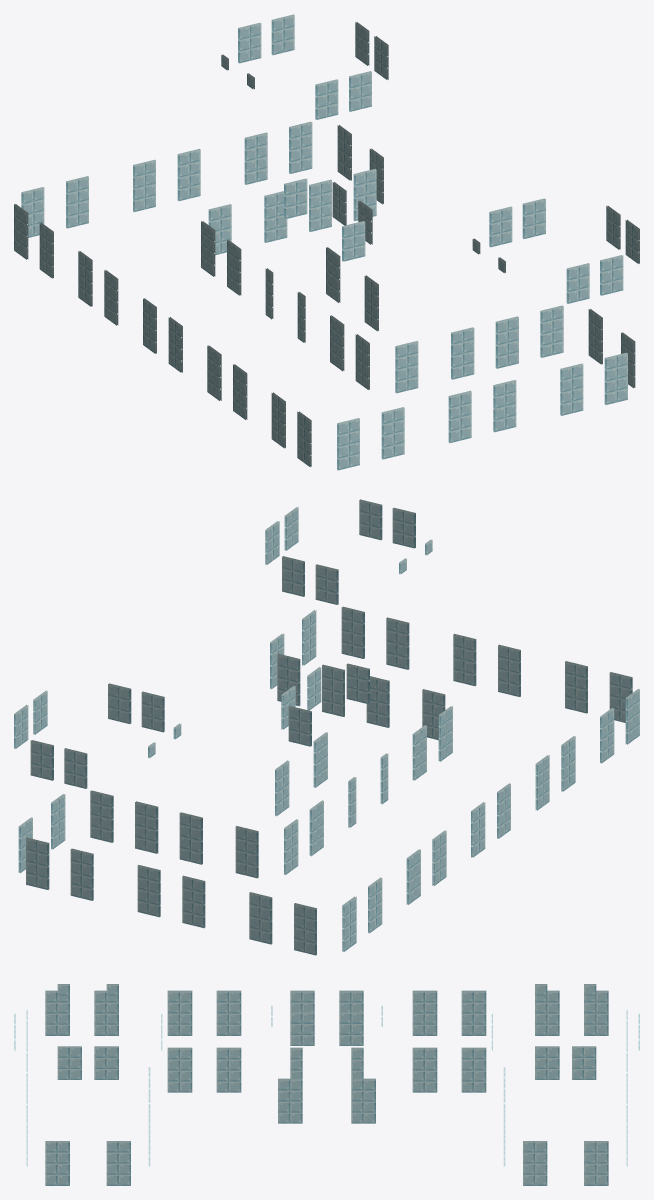
File: SCHOLL_MINE_1_windows.fbx
The picture shows the model from 3 angles, top to bottom: view 1: azimuth 30°, elevation 25°; view 2: azimuth 150°, elevation 25°; view 3: azimuth 270°, elevation 25°; orthographic projection. The views are drawn at different scales.
Visible parts, largest first — view 1: Windows; view 2: Windows; view 3: Windows.
Part boxes in pixels (bbox=[...]): Windows: bbox=[14, 14, 639, 470]; Windows: bbox=[14, 499, 639, 955]; Windows: bbox=[14, 984, 639, 1185].
Bounding box in the file's own units: 76.5 × 33.01 × 130.
Materials: 1 (1 with a texture image).
